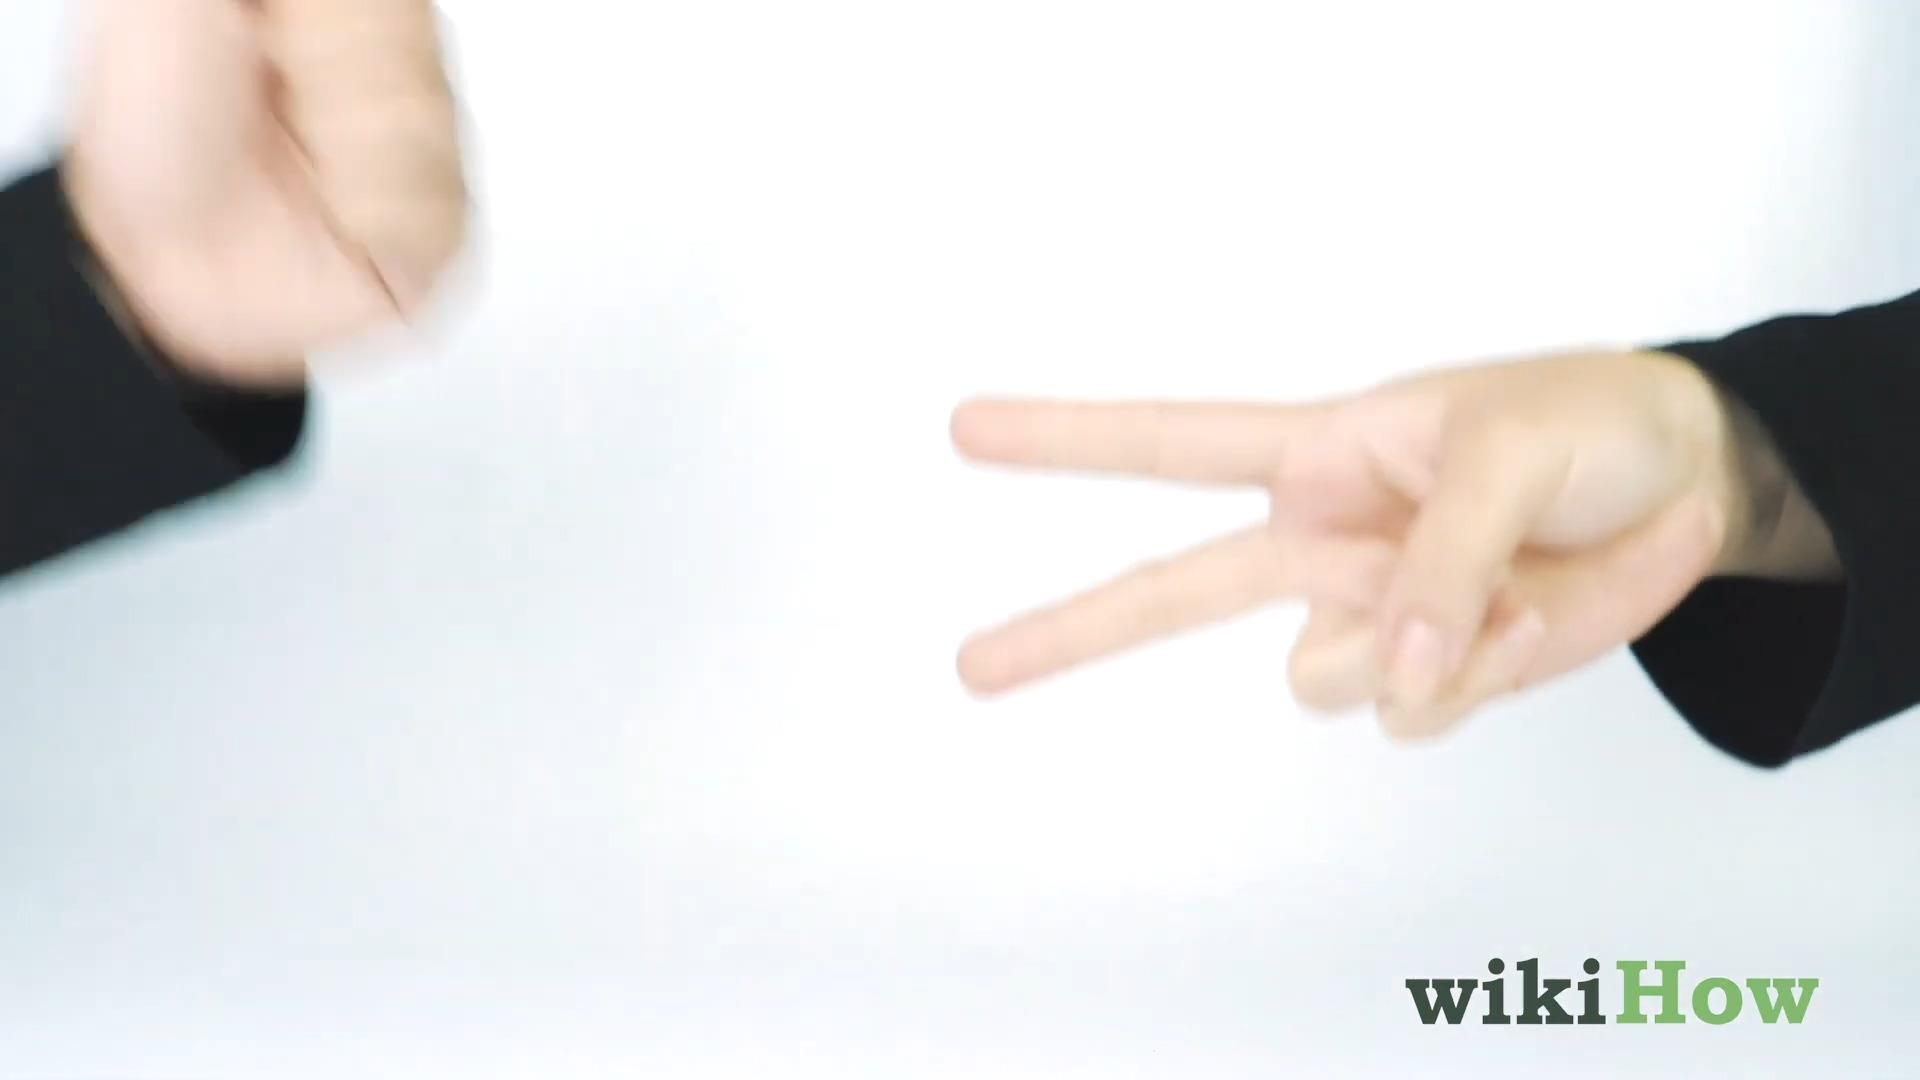Rock: (55, 0, 476, 373)
Scissors: (955, 343, 1737, 744)
